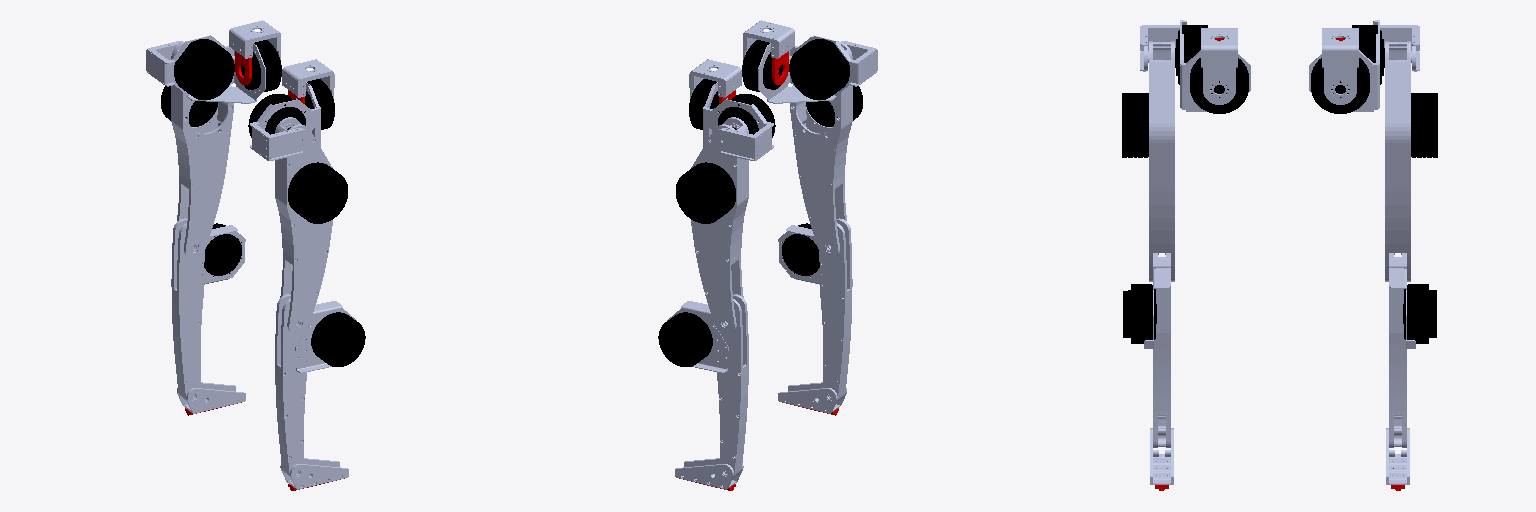
URDF robot description (mevita):
<?xml version='1.0' encoding='UTF-8'?>
<robot name="mevita">
  <link name="base_link">
    <inertial>
      <origin xyz="0.00928611721589756 0.0 -0.0205788256368033" rpy="0.0 -0.0 0.0"/>
      <mass value="8.0957985696312"/>
      <inertia ixx="0.0584397725418765" ixy="4.74882558774436e-06" ixz="-1.96711943278022e-05" iyy="0.037899893912788" iyz="-4.32258628183686e-05" izz="0.0334286196447418"/>
    </inertial>
    <visual>
      <geometry>
        <mesh filename="package://mevita/models/meshes/base_link.dae"/>
      </geometry>
      <origin xyz="0.0 0.0 0.0" rpy="0.0 -0.0 0.0"/>
    </visual>
    <collision>
      <geometry>
        <box size="0.152 0.300 0.320"/>
      </geometry>
      <material name="material"/>
      <origin xyz="0.0 0.0 0.0" rpy="0.0 -0.0 0.0"/>
    </collision>
  </link>
  <link name="R_hip1_link">
    <inertial>
      <origin xyz="-0.0116280032776967 2.24198653703128e-05 -0.0324188147397766" rpy="0.0 -0.0 0.0"/>
      <mass value="0.195651670203217"/>
      <inertia ixx="0.000127906547739082" ixy="-5.05375803664571e-10" ixz="2.90853360412574e-05" iyy="0.000168931407464894" iyz="-3.16933358392427e-10" izz="0.000103638809145105"/>
    </inertial>
    <visual>
      <geometry>
        <mesh filename="package://mevita/models/meshes/R_hip1_link.dae"/>
      </geometry>
      <origin xyz="0.0 0.0 0.0" rpy="0.0 -0.0 0.0"/>
    </visual>
  </link>
  <link name="R_hip2_link">
    <inertial>
      <origin xyz="-0.0848241977996927 -0.0330786304511408 -0.00239927683418034" rpy="0.0 -0.0 0.0"/>
      <mass value="2.06272582516224"/>
      <inertia ixx="0.00194208302225348" ixy="-0.000317634798503137" ixz="8.79932071664311e-05" iyy="0.00258512565408255" iyz="3.91813637448243e-05" izz="0.00223873838261095"/>
    </inertial>
    <visual>
      <geometry>
        <mesh filename="package://mevita/models/meshes/R_hip2_link.dae"/>
      </geometry>
      <origin xyz="0.0 0.0 0.0" rpy="0.0 -0.0 0.0"/>
    </visual>
    <collision>
      <geometry>
        <cylinder radius="0.042" length="0.05"/>
      </geometry>
      <material name="material"/>
      <origin xyz="-0.025 0.0 0.0" rpy="0 1.57 0" />
    </collision>
    <collision>
      <geometry>
        <cylinder radius="0.045" length="0.04"/>
      </geometry>
      <material name="material"/>
      <origin xyz="-0.112 -0.040 0.0" rpy="0 1.57 1.57" />
    </collision>
    <collision>
      <geometry>
        <box size="0.010 0.058 0.0442"/>
      </geometry>
      <material name="material"/>
      <origin xyz="-0.17355 -0.090 0.0" rpy="0.0 0.0 0.0"/>
    </collision>
  </link>
  <link name="R_thigh_link">
    <inertial>
      <origin xyz="0.0217259220360281 -0.0386181639861446 -0.127457750108459" rpy="0.0 -0.0 0.0"/>
      <mass value="2.0269546279437"/>
      <inertia ixx="0.00986835841885388" ixy="-6.47139447506295e-07" ixz="0.000101369974101054" iyy="0.0109863901998615" iyz="-4.95748858000217e-06" izz="0.00152601861254659"/>
    </inertial>
    <visual>
      <geometry>
        <mesh filename="package://mevita/models/meshes/R_thigh_link.dae"/>
      </geometry>
      <origin xyz="0.0 0.0 0.0" rpy="0.0 -0.0 0.0"/>
    </visual>
    <collision>
      <geometry>
        <cylinder radius="0.02" length="0.30"/>
      </geometry>
      <material name="material"/>
      <origin xyz="0 -0.02 -0.125" rpy="0 0 0" />
    </collision>
    <collision>
      <geometry>
        <cylinder radius="0.0485" length="0.04"/>
      </geometry>
      <material name="material"/>
      <origin xyz="0.0255 -0.060 -0.100" rpy="0 1.57 1.57" />
    </collision>
  </link>
  <link name="R_calf_link">
    <inertial>
      <origin xyz="0.038867142816782 -0.0275443103240817 -0.0744040654595665" rpy="0.0 -0.0 0.0"/>
      <mass value="1.32255100769777"/>
      <inertia ixx="0.00518314311782858" ixy="2.1831048607277e-06" ixz="-0.0001751918500235" iyy="0.00558007158640056" iyz="-2.68494203987264e-05" izz="0.000622860993106399"/>
    </inertial>
    <visual>
      <geometry>
        <mesh filename="package://mevita/models/meshes/R_calf_link.dae"/>
      </geometry>
      <origin xyz="0.0 0.0 0.0" rpy="0.0 -0.0 0.0"/>
    </visual>
    <collision>
      <geometry>
        <cylinder radius="0.018" length="0.25"/>
      </geometry>
      <material name="material"/>
      <origin xyz="0 -0.013 -0.125" rpy="0 0 0" />
    </collision>
    <collision>
      <geometry>
        <cylinder radius="0.045" length="0.04"/>
      </geometry>
      <material name="material"/>
      <origin xyz="0.07135 -0.0425 -0.04182" rpy="0 1.57 1.57" />
    </collision>
  </link>
  <link name="R_foot_link">
    <inertial>
      <origin xyz="0.0341269560823716 -0.0190532076867859 -0.0172244441189837" rpy="0.0 -0.0 0.0"/>
      <mass value="0.208120816016097"/>
      <inertia ixx="2.71414337218971e-05" ixy="-2.00530760330034e-09" ixz="1.91006136452082e-05" iyy="0.000155411337533028" iyz="-1.76810768050942e-09" izz="0.00014431619561041"/>
    </inertial>
    <visual>
      <geometry>
        <mesh filename="package://mevita/models/meshes/R_foot_link.dae"/>
      </geometry>
      <origin xyz="0.0 0.0 0.0" rpy="0.0 -0.0 0.0"/>
    </visual>
    <collision>
      <geometry>
        <cylinder radius="0.01916" length="0.104"/>
      </geometry>
      <material name="material"/>
      <origin xyz="0.048 -0.01916 -0.03141" rpy="0 1.57 0" />
    </collision>
  </link>
  <link name="L_hip1_link">
    <inertial>
      <origin xyz="-0.0116280032776967 2.24198653701602e-05 -0.0324188147397767" rpy="0.0 -0.0 0.0"/>
      <mass value="0.195651670203217"/>
      <inertia ixx="0.000127906547739082" ixy="-5.05375803669024e-10" ixz="2.90853360412574e-05" iyy="0.000168931407464894" iyz="-3.16933358393089e-10" izz="0.000103638809145105"/>
    </inertial>
    <visual>
      <geometry>
        <mesh filename="package://mevita/models/meshes/L_hip1_link.dae"/>
      </geometry>
      <origin xyz="0.0 0.0 0.0" rpy="0.0 -0.0 0.0"/>
    </visual>
  </link>
  <link name="L_hip2_link">
    <inertial>
      <origin xyz="-0.0848241850737188 0.0330439919867859 -0.0024319822187876" rpy="0.0 -0.0 0.0"/>
      <mass value="2.06272582516213"/>
      <inertia ixx="0.00194208302225347" ixy="0.000315940351024014" ixz="9.00839822768814e-05" iyy="0.00258465285897819" iyz="-4.0642647695993e-05" izz="0.0022392111777153"/>
    </inertial>
    <visual>
      <geometry>
        <mesh filename="package://mevita/models/meshes/L_hip2_link.dae"/>
      </geometry>
      <origin xyz="0.0 0.0 0.0" rpy="0.0 -0.0 0.0"/>
    </visual>
    <collision>
      <geometry>
        <cylinder radius="0.042" length="0.05"/>
      </geometry>
      <material name="material"/>
      <origin xyz="-0.025 0.0 0.0" rpy="0 1.57 0" />
    </collision>
    <collision>
      <geometry>
        <cylinder radius="0.045" length="0.04"/>
      </geometry>
      <material name="material"/>
      <origin xyz="-0.112 0.040 0.0" rpy="0 1.57 1.57" />
    </collision>
    <collision>
      <geometry>
        <box size="0.010 0.058 0.0442"/>
      </geometry>
      <material name="material"/>
      <origin xyz="-0.17355 0.090 0.0" rpy="0.0 0.0 0.0"/>
    </collision>
  </link>
  <link name="L_thigh_link">
    <inertial>
      <origin xyz="0.0217096596297535 0.0386181642359396 -0.127429584203769" rpy="0.0 -0.0 0.0"/>
      <mass value="2.02695465095457"/>
      <inertia ixx="0.00986996283199353" ixy="5.53368417329674e-07" ixz="0.000100443675425187" iyy="0.0109863902075503" iyz="5.11991735957987e-06" izz="0.00152441421831652"/>
    </inertial>
    <visual>
      <geometry>
        <mesh filename="package://mevita/models/meshes/L_thigh_link.dae"/>
      </geometry>
      <origin xyz="0.0 0.0 0.0" rpy="0.0 -0.0 0.0"/>
    </visual>
    <collision>
      <geometry>
        <cylinder radius="0.02" length="0.30"/>
      </geometry>
      <material name="material"/>
      <origin xyz="0 0.02 -0.125" rpy="0 0 0" />
    </collision>
    <collision>
      <geometry>
        <cylinder radius="0.0485" length="0.04"/>
      </geometry>
      <material name="material"/>
      <origin xyz="0.0255 0.060 -0.100" rpy="0 1.57 1.57" />
    </collision>
  </link>
  <link name="L_calf_link">
    <inertial>
      <origin xyz="0.0388984172246086 0.0275443101753798 -0.0743540005306829" rpy="0.0 -0.0 0.0"/>
      <mass value="1.32255100135935"/>
      <inertia ixx="0.00518468533556645" ixy="-3.09018215107561e-06" ixz="-0.000174440375778983" iyy="0.00558007179509112" iyz="2.5398500779775e-05" izz="0.000621318983991005"/>
    </inertial>
    <visual>
      <geometry>
        <mesh filename="package://mevita/models/meshes/L_calf_link.dae"/>
      </geometry>
      <origin xyz="0.0 0.0 0.0" rpy="0.0 -0.0 0.0"/>
    </visual>
    <collision>
      <geometry>
        <cylinder radius="0.018" length="0.25"/>
      </geometry>
      <material name="material"/>
      <origin xyz="0 0.013 -0.125" rpy="0 0 0" />
    </collision>
    <collision>
      <geometry>
        <cylinder radius="0.045" length="0.04"/>
      </geometry>
      <material name="material"/>
      <origin xyz="0.07135 0.0425 -0.04182" rpy="0 1.57 1.57" />
    </collision>
  </link>
  <link name="L_foot_link">
    <inertial>
      <origin xyz="0.0341269560823717 0.0190532076867859 -0.0172244035357006" rpy="0.0 -0.0 0.0"/>
      <mass value="0.208120816016097"/>
      <inertia ixx="2.71414337218971e-05" ixy="2.00530760323662e-09" ixz="1.91006276773753e-05" iyy="0.000155411337533028" iyz="1.75518350879584e-09" izz="0.00014431619561041"/>
    </inertial>
    <visual>
      <geometry>
        <mesh filename="package://mevita/models/meshes/L_foot_link.dae"/>
      </geometry>
      <origin xyz="0.0 0.0 0.0" rpy="0.0 -0.0 0.0"/>
    </visual>
    <collision>
      <geometry>
        <cylinder radius="0.01916" length="0.104"/>
      </geometry>
      <material name="material"/>
      <origin xyz="0.048 0.01916 -0.03141" rpy="0 1.57 0" />
    </collision>
  </link>
  <joint name="R_hip_y" type="revolute">
    <limit lower="-1.0472" upper="1.0472" effort="25" velocity="24"/>
    <parent link="base_link"/>
    <child link="R_hip1_link"/>
    <axis xyz=" 0.  0.  1."/>
    <origin xyz="0.0 -0.0909999999999956 -0.19905000000001" rpy="0.0 -0.0 0.0"/>
  </joint>
  <joint name="R_hip_r" type="revolute">
    <limit lower="-0.4538" upper="0.4538" effort="25" velocity="24"/>
    <parent link="R_hip1_link"/>
    <child link="R_hip2_link"/>
    <axis xyz=" 1.  0.  0."/>
    <origin xyz="0.02799999999999 0.0 -0.071" rpy="0.0 -0.0 0.0"/>
  </joint>
  <joint name="R_hip_p" type="revolute">
    <limit lower="-3.1416" upper="0.7330" effort="48" velocity="26"/>
    <parent link="R_hip2_link"/>
    <child link="R_thigh_link"/>
    <axis xyz=" 0.  1.  0."/>
    <origin xyz="-0.11155 -0.0665000000000001 0.0" rpy="0.0 -0.0 0.0"/>
  </joint>
  <joint name="R_knee_p" type="revolute">
    <limit lower="-0.3490" upper="2.7925" effort="48" velocity="26"/>
    <parent link="R_thigh_link"/>
    <child link="R_calf_link"/>
    <axis xyz=" 0.  1.  0."/>
    <origin xyz="0.0 -0.00699999999999998 -0.35" rpy="0.0 -0.0 0.0"/>
  </joint>
  <joint name="R_ankle_p" type="revolute">
    <limit lower="-1.2217" upper="1.0123" effort="25" velocity="24"/>
    <parent link="R_calf_link"/>
    <child link="R_foot_link"/>
    <axis xyz=" 0.  1.  0."/>
    <origin xyz="0.0 0.0055 -0.281416826531746" rpy="0.0 -0.0 0.0"/>
  </joint>
  <joint name="L_hip_y" type="revolute">
    <limit lower="-1.0472" upper="1.0472" effort="25" velocity="24"/>
    <parent link="base_link"/>
    <child link="L_hip1_link"/>
    <axis xyz=" 0.  0.  1."/>
    <origin xyz="0.0 0.091 -0.19905000000001" rpy="0.0 -0.0 0.0"/>
  </joint>
  <joint name="L_hip_r" type="revolute">
    <limit lower="-0.4538" upper="0.4538" effort="25" velocity="24"/>
    <parent link="L_hip1_link"/>
    <child link="L_hip2_link"/>
    <axis xyz=" 1.  0.  0."/>
    <origin xyz="0.02799999999999 0.0 -0.071" rpy="0.0 -0.0 0.0"/>
  </joint>
  <joint name="L_hip_p" type="revolute">
    <limit lower="-3.1416" upper="0.7330" effort="48" velocity="26"/>
    <parent link="L_hip2_link"/>
    <child link="L_thigh_link"/>
    <axis xyz="0. 1. 0."/>
    <origin xyz="-0.11155 0.0665000000000001 0.0" rpy="0.0 -0.0 0.0"/>
  </joint>
  <joint name="L_knee_p" type="revolute">
    <limit lower="-0.3490" upper="2.7925" effort="48" velocity="26"/>
    <parent link="L_thigh_link"/>
    <child link="L_calf_link"/>
    <axis xyz="0. 1. 0."/>
    <origin xyz="0.0 0.00699999999999998 -0.35" rpy="0.0 -0.0 0.0"/>
  </joint>
  <joint name="L_ankle_p" type="revolute">
    <limit lower="-1.2217" upper="1.0123" effort="25" velocity="24"/>
    <parent link="L_calf_link"/>
    <child link="L_foot_link"/>
    <axis xyz="0. 1. 0."/>
    <origin xyz="0.0 -0.0055 -0.281416826531746" rpy="0.0 -0.0 0.0"/>
  </joint>
  <material name="material">
    <color rgba="0.75294118 0.75294118 0.75294118 1.        "/>
  </material>
</robot>

--- Render facts (derived) ---
The picture shows the robot from 3 angles, left to right: view 1: azimuth 30°, elevation 25°; view 2: azimuth 150°, elevation 25°; view 3: azimuth 270°, elevation 25°; orthographic projection.
Model mevita with 11 links and 10 joints (10 revolute), rooted at base_link, posed all joints at 0.
Links seen in each view (by area): view 1: R_thigh_link, R_calf_link, L_thigh_link, L_calf_link, L_hip2_link, R_hip2_link, L_hip1_link, R_foot_link, L_foot_link, R_hip1_link; view 2: L_thigh_link, L_calf_link, R_thigh_link, R_calf_link, R_hip2_link, L_hip2_link, R_hip1_link, R_foot_link, L_foot_link, L_hip1_link; view 3: R_thigh_link, L_thigh_link, L_calf_link, R_calf_link, R_hip2_link, L_hip2_link, R_hip1_link, L_hip1_link, R_foot_link, L_foot_link.
Link boxes in pixels (left/top/right/bottom): R_thigh_link: left=275, top=117, right=347, bottom=334; R_calf_link: left=275, top=294, right=365, bottom=477; L_thigh_link: left=161, top=41, right=233, bottom=258; L_calf_link: left=171, top=218, right=245, bottom=400; L_hip2_link: left=146, top=35, right=281, bottom=103; R_hip2_link: left=248, top=79, right=334, bottom=160; L_hip1_link: left=229, top=20, right=280, bottom=84; R_foot_link: left=280, top=458, right=348, bottom=490; L_foot_link: left=177, top=382, right=245, bottom=415; R_hip1_link: left=282, top=59, right=334, bottom=103; L_thigh_link: left=676, top=117, right=748, bottom=334; L_calf_link: left=658, top=294, right=748, bottom=477; R_thigh_link: left=790, top=41, right=862, bottom=258; R_calf_link: left=778, top=218, right=852, bottom=400; R_hip2_link: left=742, top=35, right=877, bottom=103; L_hip2_link: left=689, top=79, right=775, bottom=160; R_hip1_link: left=743, top=20, right=794, bottom=84; R_foot_link: left=778, top=382, right=846, bottom=415; L_foot_link: left=675, top=458, right=743, bottom=490; L_hip1_link: left=689, top=59, right=741, bottom=103; R_thigh_link: left=1122, top=41, right=1174, bottom=281; L_thigh_link: left=1385, top=41, right=1437, bottom=281; L_calf_link: left=1389, top=253, right=1436, bottom=447; R_calf_link: left=1123, top=253, right=1170, bottom=447; R_hip2_link: left=1140, top=20, right=1250, bottom=113; L_hip2_link: left=1309, top=20, right=1419, bottom=113; R_hip1_link: left=1201, top=28, right=1237, bottom=104; L_hip1_link: left=1322, top=28, right=1358, bottom=104; R_foot_link: left=1150, top=428, right=1173, bottom=490; L_foot_link: left=1386, top=428, right=1409, bottom=490.
Bounding box of the posed robot: 0.1845 × 0.4756 × 0.7438 m (x, y, z).
10 mesh visuals loaded from 11 distinct referenced files (10 Collada DAE); not drawn: 1 (reference not matched to a file when rendering).
